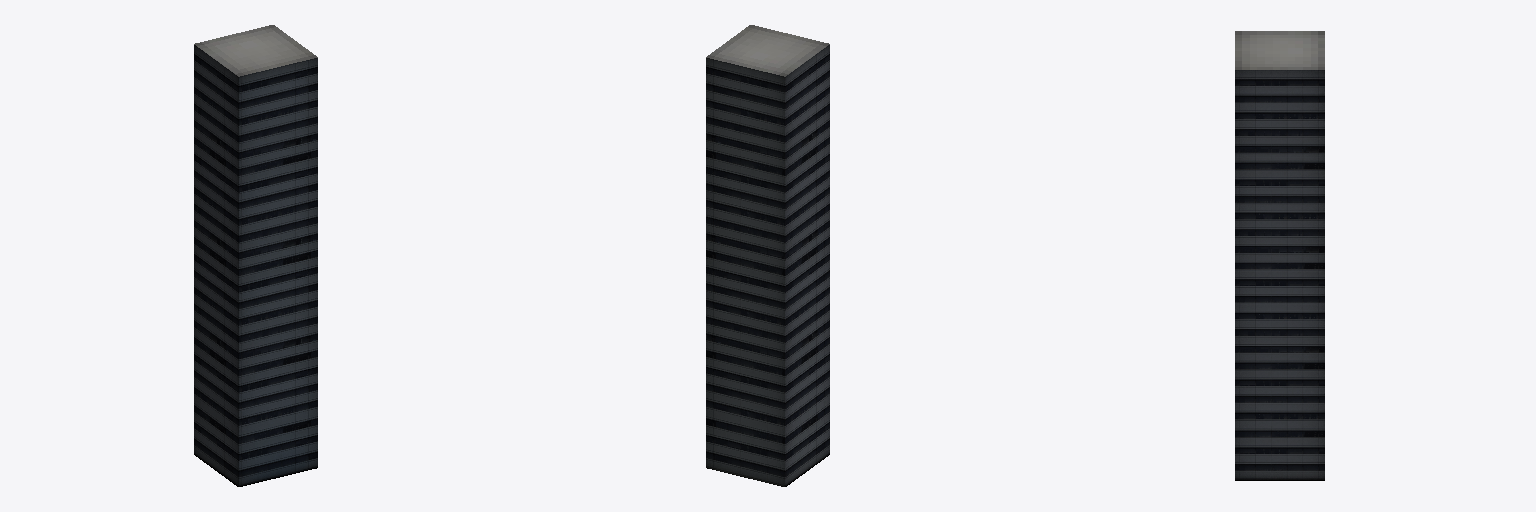
The picture shows the model from 3 angles: view 1: azimuth 30°, elevation 25°; view 2: azimuth 150°, elevation 25°; view 3: azimuth 270°, elevation 25°; orthographic projection.
Parts seen in each view (by area): view 1: building; view 2: building; view 3: building.
Boxes of the visible parts, box(x1,y1,x2,y2) form: building: box(194, 25, 317, 486); building: box(706, 25, 829, 486); building: box(1235, 31, 1324, 480).
Bounding box in the file's own units: 97.23 × 478 × 94.87.
1 materials, 1 textured.